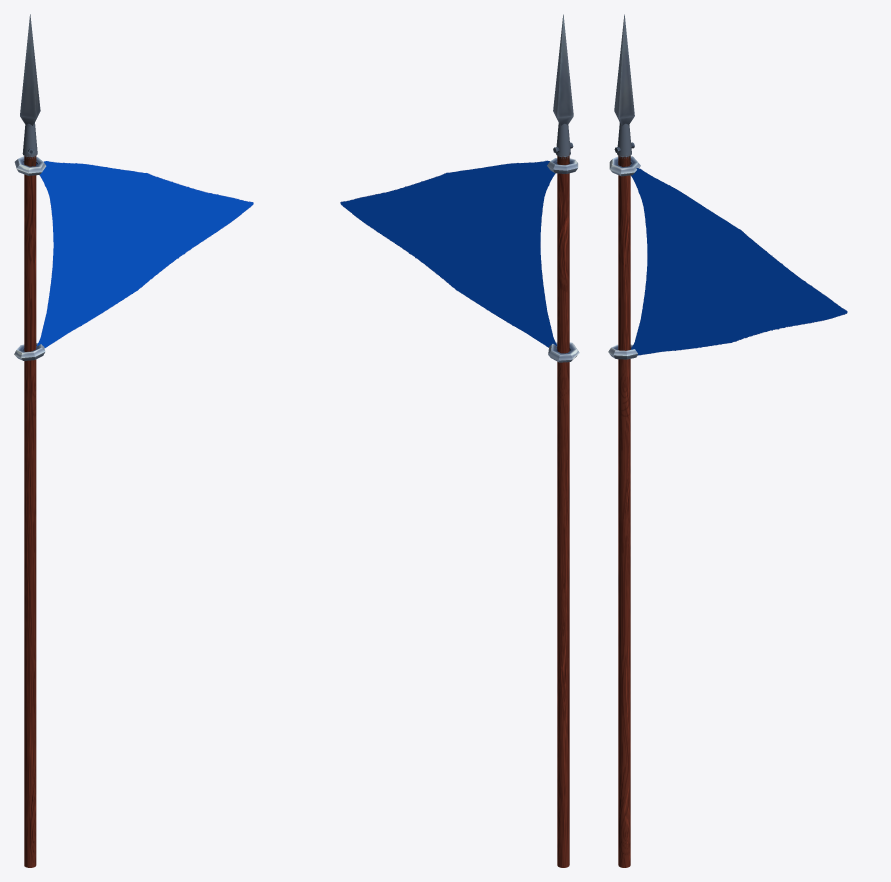
The model's file is flag.fbx.
3 views of the same model, side by side, from view 1: azimuth 30°, elevation 25°; view 2: azimuth 150°, elevation 25°; view 3: azimuth 330°, elevation 25° (orthographic).
Visible parts, largest first — view 1: flag2, stickFlag02; view 2: flag2, stickFlag02; view 3: flag2, stickFlag02.
Boxes of the visible parts, bbox=[...] form: flag2: bbox=[36, 161, 253, 348]; stickFlag02: bbox=[14, 14, 46, 867]; flag2: bbox=[340, 160, 557, 350]; stickFlag02: bbox=[547, 14, 579, 867]; flag2: bbox=[631, 168, 847, 355]; stickFlag02: bbox=[608, 14, 640, 867].
Size of the model in its own units: 1.27 by 3.87 by 0.1325.
